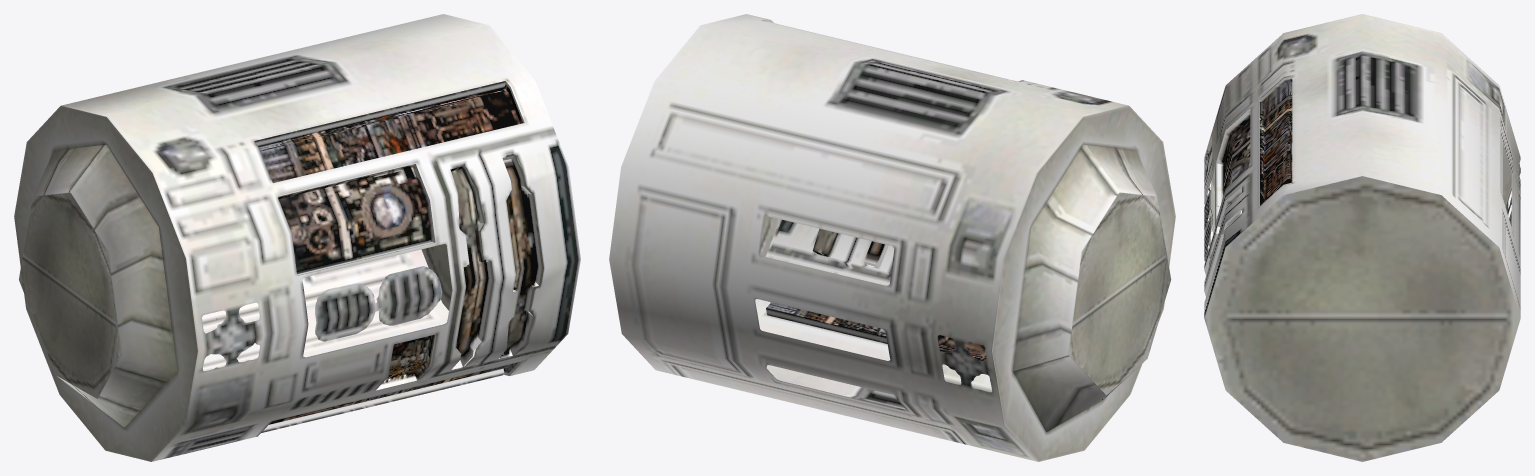
File: poi_r3_torso_l1.fbx
The picture shows the model from 3 angles, left to right: view 1: azimuth 30°, elevation 25°; view 2: azimuth 150°, elevation 25°; view 3: azimuth 270°, elevation 25°; orthographic projection. The views are drawn at different scales.
Parts seen in each view (by area): view 1: mesh_node; view 2: mesh_node; view 3: mesh_node.
Boxes of the visible parts, bbox=[...] form: mesh_node: bbox=[14, 14, 580, 461]; mesh_node: bbox=[609, 14, 1175, 461]; mesh_node: bbox=[1204, 14, 1520, 461].
Bounding box in the file's own units: 0.5802 × 0.4425 × 0.4403.
